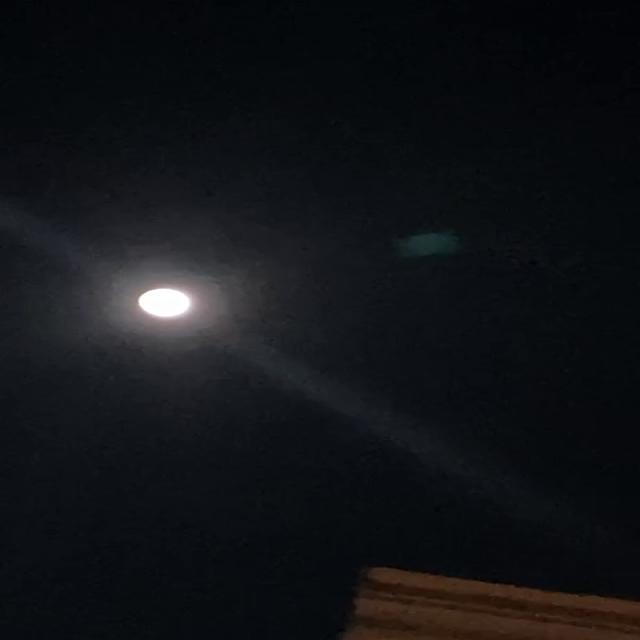moon: (128, 280, 219, 326)
